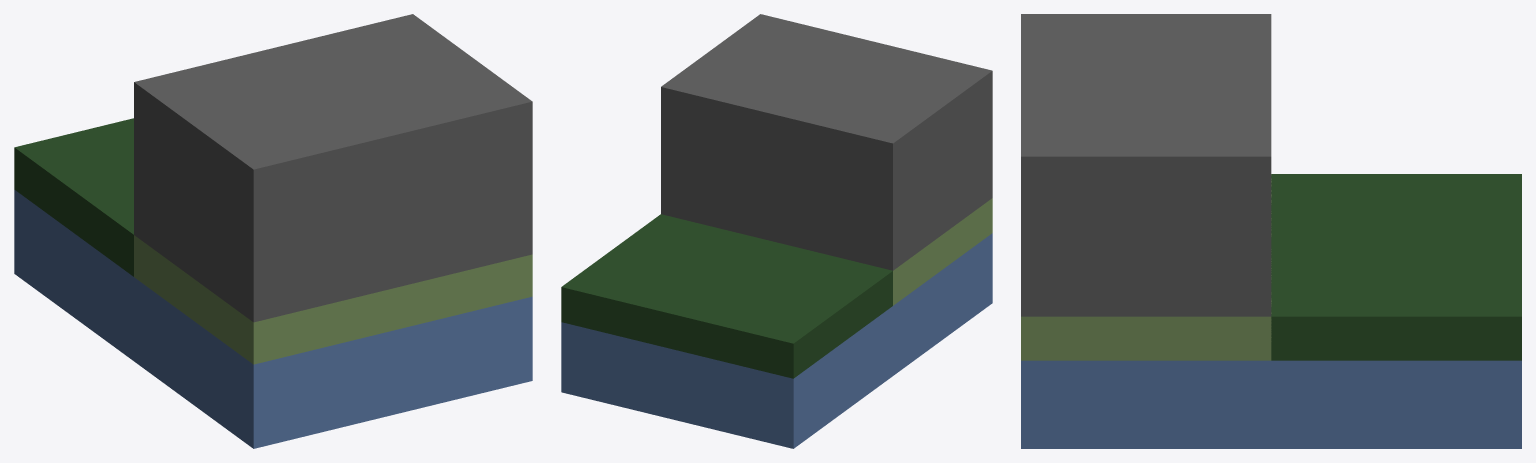
Rendered from quad_29.glb.
The picture shows the model from 3 angles, left to right: view 1: azimuth 30°, elevation 25°; view 2: azimuth 150°, elevation 25°; view 3: azimuth 270°, elevation 25°; orthographic projection. The views are drawn at different scales.
Visible parts, largest first — view 1: quad_29; view 2: quad_29; view 3: quad_29.
Part boxes in pixels (x1,y1,x2,y2): quad_29: (14,14,532,448); quad_29: (561,14,992,448); quad_29: (1021,14,1521,448).
Size of the model in its own units: 0.577 by 0.5521 by 0.8571.
